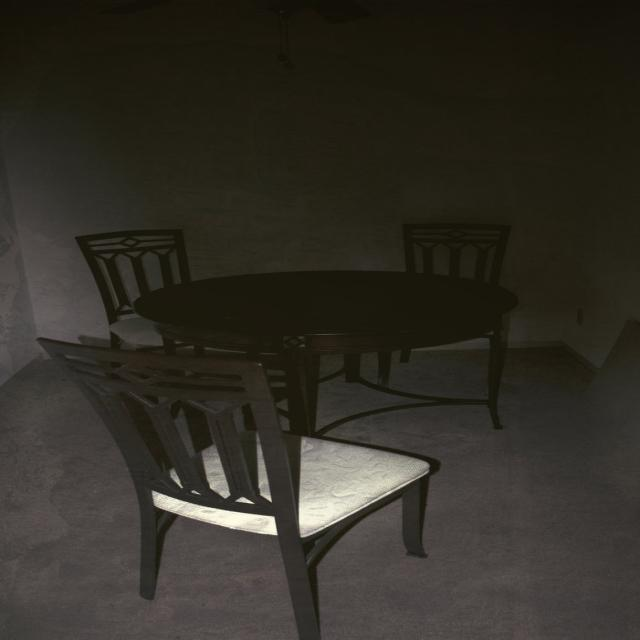Table: (144, 257, 526, 429)
chair: (9, 314, 467, 640), (357, 207, 561, 326), (92, 207, 205, 342)
